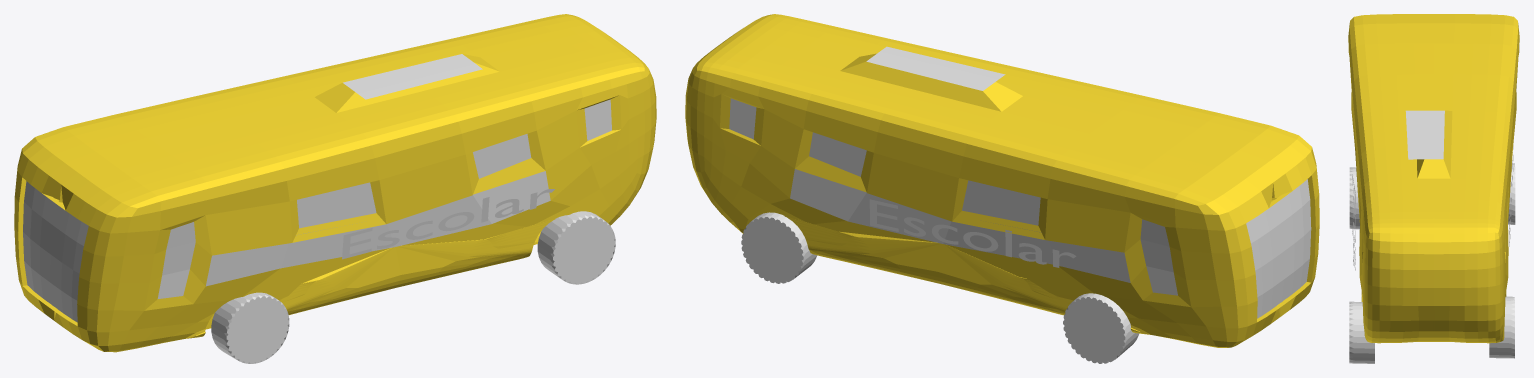
File: onibus.fbx
3 views of the same model, side by side, from view 1: azimuth 30°, elevation 25°; view 2: azimuth 150°, elevation 25°; view 3: azimuth 270°, elevation 25° (orthographic). The views are drawn at different scales.
Visible parts, largest first — view 1: Cube, Espelho, Circle.001, Cube.003, Escolar.001, Circle.002, Cube.001; view 2: Cube, Espelho, Circle.001, Cube.003, Escolar, Circle.002, Cube.001; view 3: Cube, Circle.001, Cube.003, Escolar.001.
Boxes of the visible parts, box(x1,y1,x2,y2) form: Cube: box(14, 14, 656, 352); Espelho: box(23, 134, 531, 322); Circle.001: box(211, 211, 615, 363); Cube.003: box(343, 54, 482, 99); Escolar.001: box(342, 189, 554, 259); Circle.002: box(244, 231, 601, 344); Cube.001: box(584, 99, 611, 140); Cube: box(685, 14, 1319, 347); Espelho: box(809, 132, 1311, 318); Circle.001: box(741, 212, 1138, 363); Cube.003: box(866, 46, 1005, 90); Escolar: box(869, 199, 1076, 267); Circle.002: box(761, 238, 1112, 350); Cube.001: box(729, 98, 756, 139); Cube: box(1348, 14, 1519, 343); Circle.001: box(1349, 163, 1515, 363); Cube.003: box(1405, 110, 1444, 159); Escolar.001: box(1352, 174, 1355, 270).
Bounding box in the file's own units: 2452 × 835 × 738.
